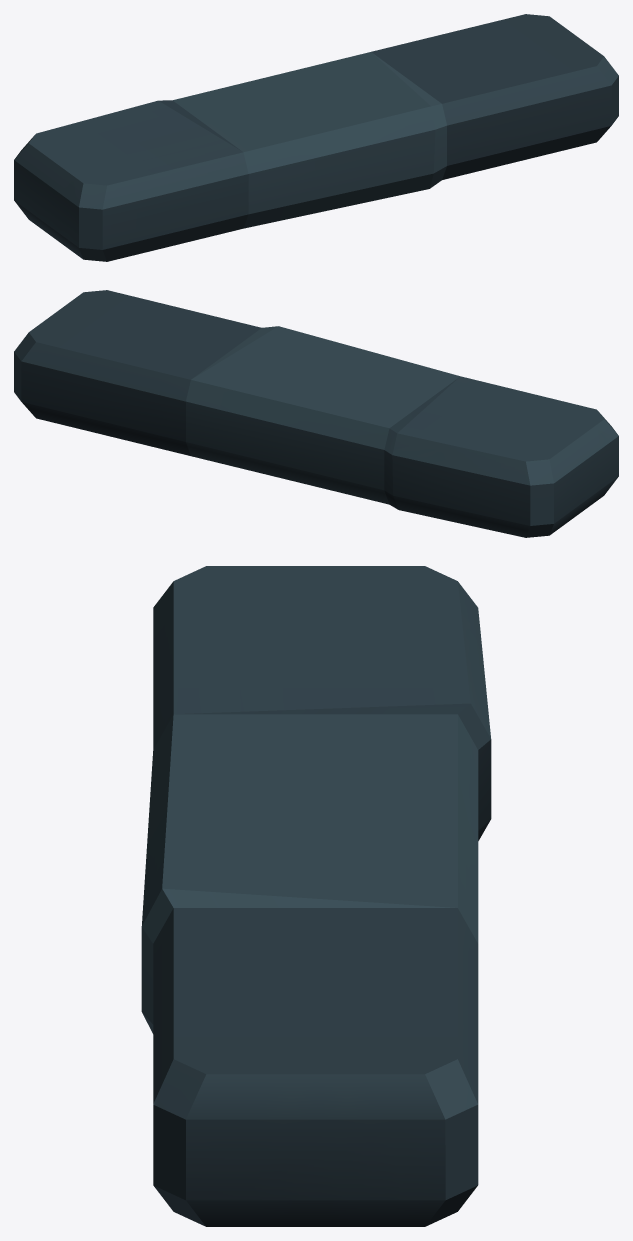
The model's file is floor_divider_2.fbx.
The picture shows the model from 3 angles, top to bottom: view 1: azimuth 30°, elevation 25°; view 2: azimuth 150°, elevation 25°; view 3: azimuth 270°, elevation 25°; orthographic projection. The views are drawn at different scales.
Parts seen in each view (by area): view 1: floor_divider_2; view 2: floor_divider_2; view 3: floor_divider_2.
Boxes of the visible parts, bbox=[...] form: floor_divider_2: bbox=[14, 14, 618, 261]; floor_divider_2: bbox=[14, 290, 618, 537]; floor_divider_2: bbox=[141, 566, 491, 1226].
Size of the model in its own units: 210 by 30.54 by 58.77.
